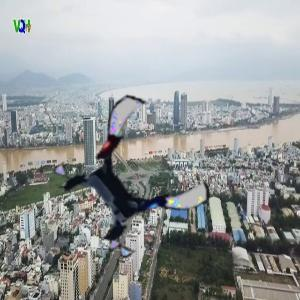drone: (61, 107, 200, 246)
